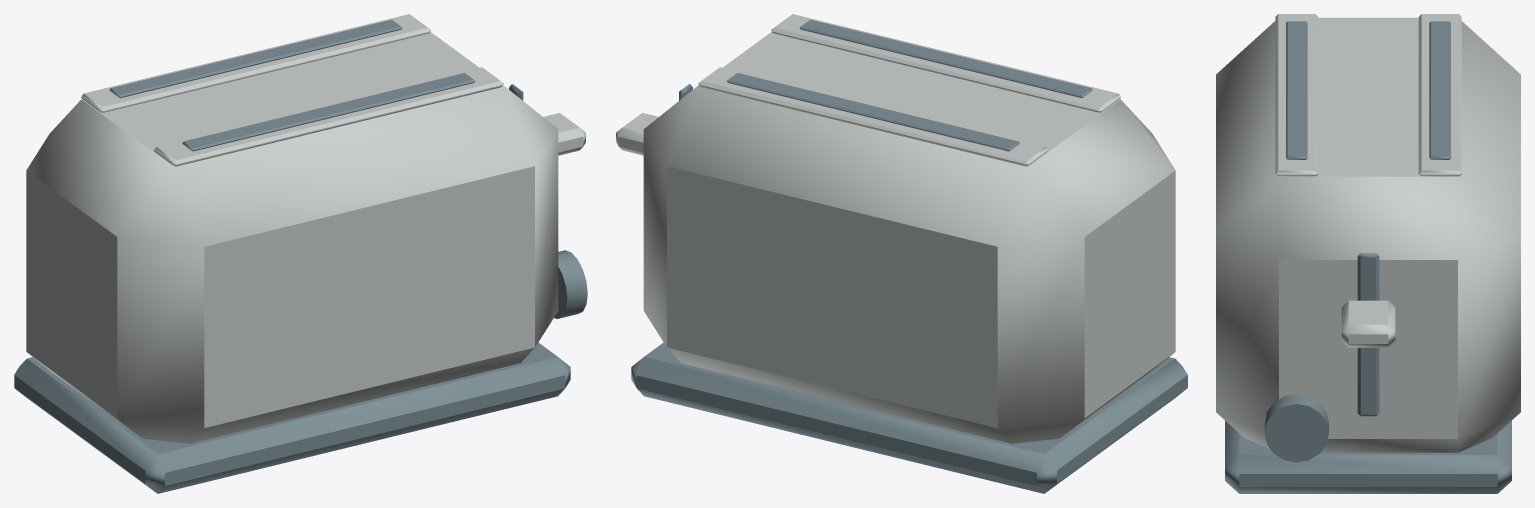
Rendered from toaster.glb.
The picture shows the model from 3 angles, left to right: view 1: azimuth 30°, elevation 25°; view 2: azimuth 150°, elevation 25°; view 3: azimuth 270°, elevation 25°; orthographic projection.
Visible parts, largest first — view 1: toaster_shell, base, slot_rim.001, slot_rim, bread_slot, bread_slot.001, browning_knob, lever; view 2: toaster_shell, base, slot_rim, slot_rim.001, bread_slot, bread_slot.001, lever; view 3: toaster_shell, base, slot_rim, slot_rim.001, browning_knob, bread_slot, bread_slot.001, lever_track, lever.
Boxes of the visible parts, x1,y1,x2,y2 form: toaster_shell: (26,32,558,443); base: (14,342,570,493); slot_rim.001: (154,67,503,166); slot_rim: (81,14,430,112); bread_slot: (109,19,402,98); bread_slot.001: (182,73,475,151); browning_knob: (554,250,587,318); lever: (543,113,585,155); toaster_shell: (643,32,1175,443); base: (631,342,1187,493); slot_rim: (698,67,1047,166); slot_rim.001: (771,14,1120,112); bread_slot: (727,73,1019,151); bread_slot.001: (799,19,1092,98); lever: (616,113,658,155); toaster_shell: (1216,17,1520,452); base: (1225,421,1511,493); slot_rim: (1418,14,1461,176); slot_rim.001: (1275,14,1318,176); browning_knob: (1264,394,1328,462); bread_slot: (1429,21,1450,159); bread_slot.001: (1286,21,1307,159); lever_track: (1357,253,1379,416); lever: (1341,300,1395,347).
Size of the model in its own units: 0.32 by 0.19 by 0.17.
